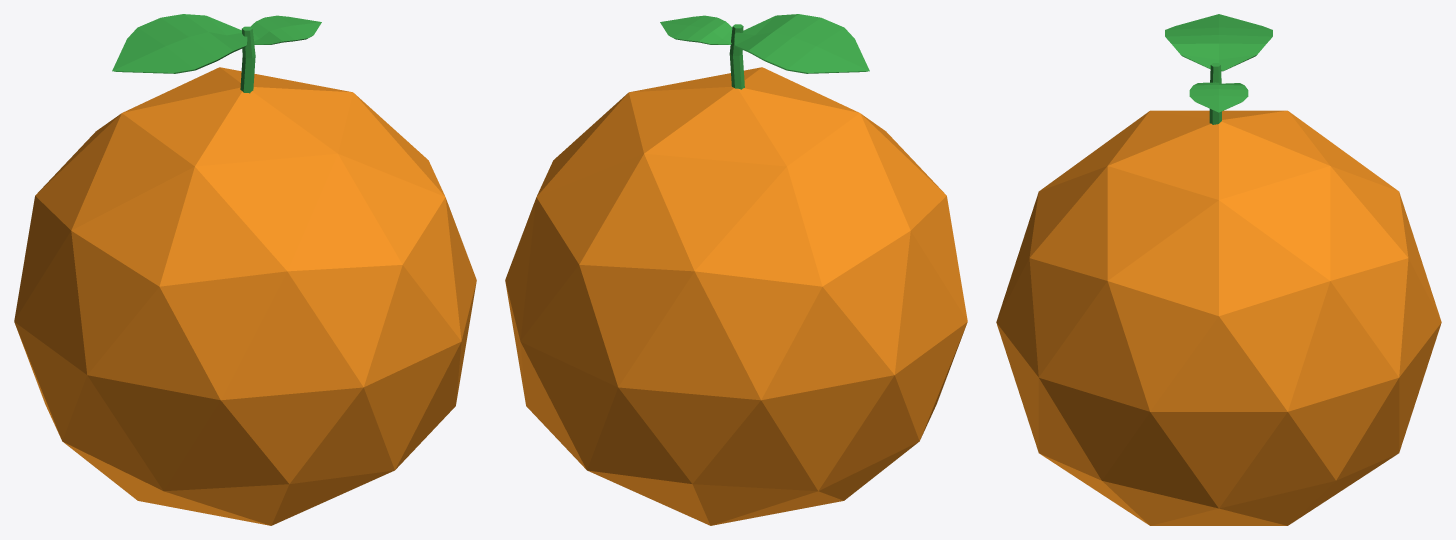
File: ORANGE.fbx
3 renders of one model, left to right at view 1: azimuth 30°, elevation 25°; view 2: azimuth 150°, elevation 25°; view 3: azimuth 270°, elevation 25°, orthographic. The views are drawn at different scales.
Parts seen in each view (by area): view 1: Icosphere.001; view 2: Icosphere.001; view 3: Icosphere.001.
Boxes of the visible parts, x1,y1,x2,y2 form: Icosphere.001: [14, 14, 476, 525]; Icosphere.001: [505, 14, 967, 525]; Icosphere.001: [996, 14, 1441, 525].
Size of the model in its own units: 257 by 297 by 270.
